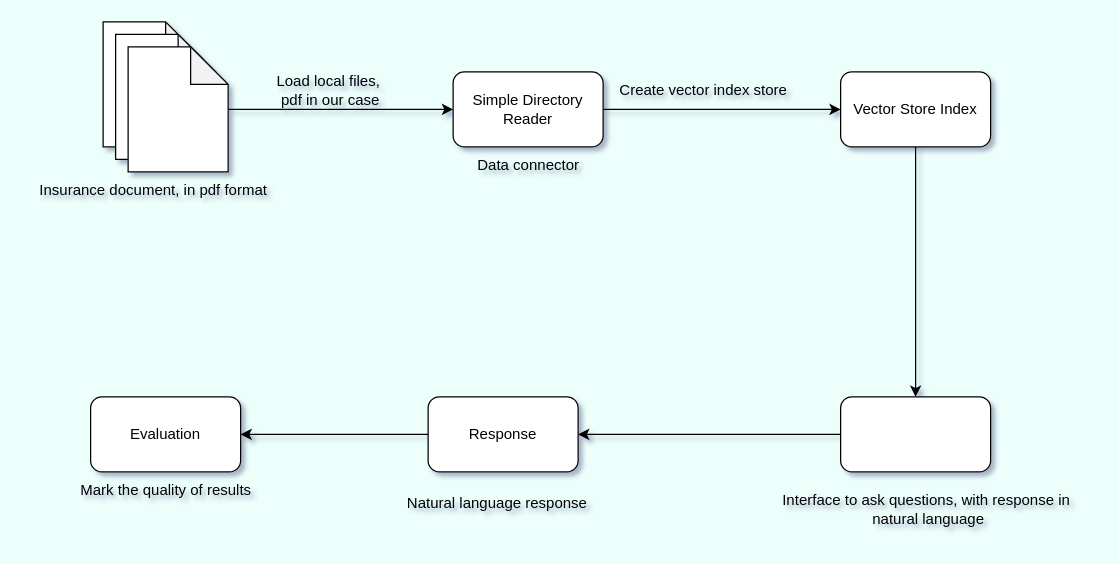
The diagram is 1119 pixels wide and 564 high, and some of its shapes have lost their labels. The centre of each missing label's shape, as x and y in pixels:
Documents: point (177, 109)
Query Engine: point (915, 434)
